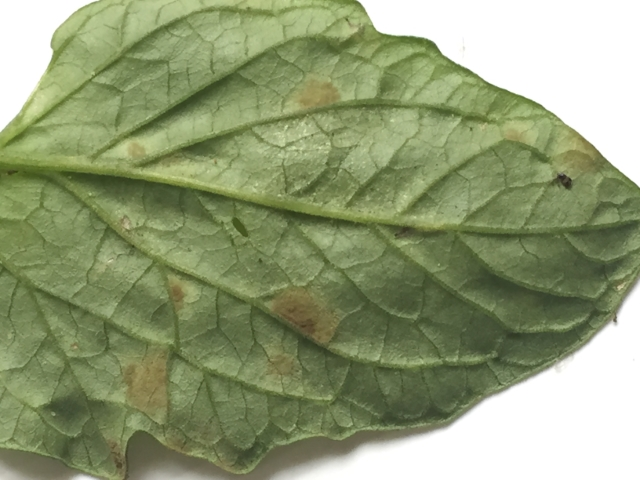cladosporium: (116, 352, 174, 425), (266, 284, 334, 340), (553, 129, 603, 176), (288, 74, 342, 114), (168, 284, 187, 304)
